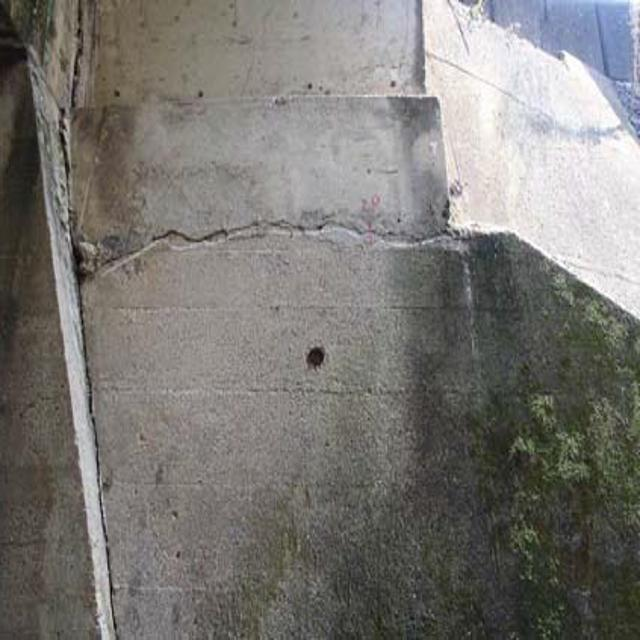crack: (124, 206, 470, 283), (47, 21, 97, 280)
